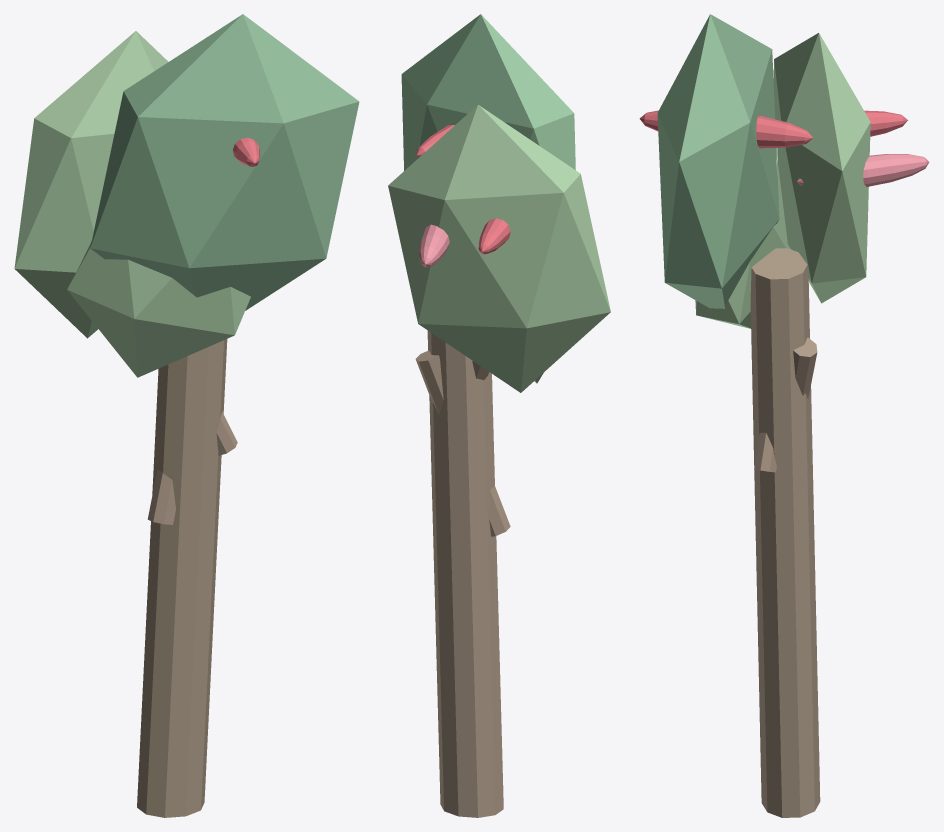
The model's file is TREE_BOTTLEBRUSH_001_v002_LOD_GAMEPLAY.glb.
3 renders of one model, left to right at view 1: azimuth 30°, elevation 25°; view 2: azimuth 150°, elevation 25°; view 3: azimuth 270°, elevation 25°, orthographic. The views are drawn at different scales.
Visible parts, largest first — view 1: TREE_BOTTLEBRUSH_001_LEAF_CLUSTER_MAIN_003_LOD_GAMEPLAY, TREE_BOTTLEBRUSH_001_TRUNK_MAIN_001_LOD_GAMEPLAY, TREE_BOTTLEBRUSH_001_LEAF_CLUSTER_MAIN_001_LOD_GAMEPLAY, TREE_BOTTLEBRUSH_001_LEAF_CLUSTER_MAIN_004_LOD_GAMEPLAY, TREE_BOTTLEBRUSH_001_BRANCH_PRIMARY_001_LOD_GAMEPLAY, TREE_BOTTLEBRUSH_001_FLOWER_CLUSTER_MAIN_003_LOD_GAMEPLAY; view 2: TREE_BOTTLEBRUSH_001_LEAF_CLUSTER_MAIN_001_LOD_GAMEPLAY, TREE_BOTTLEBRUSH_001_TRUNK_MAIN_001_LOD_GAMEPLAY, TREE_BOTTLEBRUSH_001_LEAF_CLUSTER_MAIN_003_LOD_GAMEPLAY, TREE_BOTTLEBRUSH_001_BRANCH_PRIMARY_001_LOD_GAMEPLAY, TREE_BOTTLEBRUSH_001_FLOWER_CLUSTER_MAIN_004_LOD_GAMEPLAY, TREE_BOTTLEBRUSH_001_FLOWER_CLUSTER_MAIN_001_LOD_GAMEPLAY; view 3: TREE_BOTTLEBRUSH_001_TRUNK_MAIN_001_LOD_GAMEPLAY, TREE_BOTTLEBRUSH_001_LEAF_CLUSTER_MAIN_003_LOD_GAMEPLAY, TREE_BOTTLEBRUSH_001_LEAF_CLUSTER_MAIN_001_LOD_GAMEPLAY, TREE_BOTTLEBRUSH_001_LEAF_CLUSTER_MAIN_004_LOD_GAMEPLAY, TREE_BOTTLEBRUSH_001_FLOWER_CLUSTER_MAIN_004_LOD_GAMEPLAY, TREE_BOTTLEBRUSH_001_FLOWER_CLUSTER_MAIN_003_LOD_GAMEPLAY, TREE_BOTTLEBRUSH_001_BRANCH_PRIMARY_001_LOD_GAMEPLAY, TREE_BOTTLEBRUSH_001_FLOWER_CLUSTER_MAIN_001_LOD_GAMEPLAY, TREE_BOTTLEBRUSH_001_BRANCH_SECONDARY_001_LOD_GAMEPLAY.
Part boxes in pixels (x1=…): TREE_BOTTLEBRUSH_001_LEAF_CLUSTER_MAIN_003_LOD_GAMEPLAY: x1=90, y1=14, x2=359, y2=310; TREE_BOTTLEBRUSH_001_TRUNK_MAIN_001_LOD_GAMEPLAY: x1=137, y1=339, x2=227, y2=817; TREE_BOTTLEBRUSH_001_LEAF_CLUSTER_MAIN_001_LOD_GAMEPLAY: x1=14, y1=31, x2=168, y2=338; TREE_BOTTLEBRUSH_001_LEAF_CLUSTER_MAIN_004_LOD_GAMEPLAY: x1=67, y1=241, x2=250, y2=377; TREE_BOTTLEBRUSH_001_BRANCH_PRIMARY_001_LOD_GAMEPLAY: x1=147, y1=470, x2=175, y2=524; TREE_BOTTLEBRUSH_001_FLOWER_CLUSTER_MAIN_003_LOD_GAMEPLAY: x1=233, y1=137, x2=259, y2=166; TREE_BOTTLEBRUSH_001_LEAF_CLUSTER_MAIN_001_LOD_GAMEPLAY: x1=388, y1=105, x2=610, y2=392; TREE_BOTTLEBRUSH_001_TRUNK_MAIN_001_LOD_GAMEPLAY: x1=427, y1=330, x2=503, y2=817; TREE_BOTTLEBRUSH_001_LEAF_CLUSTER_MAIN_003_LOD_GAMEPLAY: x1=401, y1=14, x2=575, y2=170; TREE_BOTTLEBRUSH_001_BRANCH_PRIMARY_001_LOD_GAMEPLAY: x1=415, y1=350, x2=510, y2=536; TREE_BOTTLEBRUSH_001_FLOWER_CLUSTER_MAIN_004_LOD_GAMEPLAY: x1=419, y1=224, x2=449, y2=267; TREE_BOTTLEBRUSH_001_FLOWER_CLUSTER_MAIN_001_LOD_GAMEPLAY: x1=478, y1=218, x2=510, y2=254; TREE_BOTTLEBRUSH_001_TRUNK_MAIN_001_LOD_GAMEPLAY: x1=750, y1=248, x2=820, y2=817; TREE_BOTTLEBRUSH_001_LEAF_CLUSTER_MAIN_003_LOD_GAMEPLAY: x1=657, y1=14, x2=779, y2=308; TREE_BOTTLEBRUSH_001_LEAF_CLUSTER_MAIN_001_LOD_GAMEPLAY: x1=773, y1=33, x2=870, y2=303; TREE_BOTTLEBRUSH_001_LEAF_CLUSTER_MAIN_004_LOD_GAMEPLAY: x1=695, y1=148, x2=790, y2=328; TREE_BOTTLEBRUSH_001_FLOWER_CLUSTER_MAIN_004_LOD_GAMEPLAY: x1=797, y1=154, x2=929, y2=186; TREE_BOTTLEBRUSH_001_FLOWER_CLUSTER_MAIN_003_LOD_GAMEPLAY: x1=639, y1=110, x2=812, y2=148; TREE_BOTTLEBRUSH_001_BRANCH_PRIMARY_001_LOD_GAMEPLAY: x1=793, y1=337, x2=817, y2=399; TREE_BOTTLEBRUSH_001_FLOWER_CLUSTER_MAIN_001_LOD_GAMEPLAY: x1=864, y1=110, x2=907, y2=136; TREE_BOTTLEBRUSH_001_BRANCH_SECONDARY_001_LOD_GAMEPLAY: x1=754, y1=432, x2=776, y2=472.
Size of the model in its own units: 1.66 by 4.54 by 1.48.
